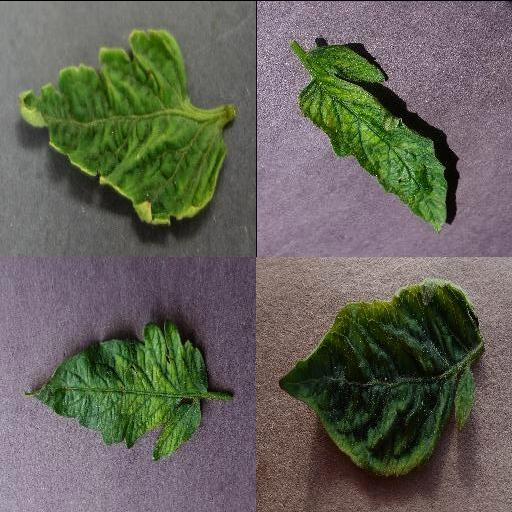Mosaic Virus: (297, 43, 449, 233), (23, 318, 209, 462)
Yellow Leaf Curl Virus: (17, 27, 225, 224), (278, 280, 484, 478)
